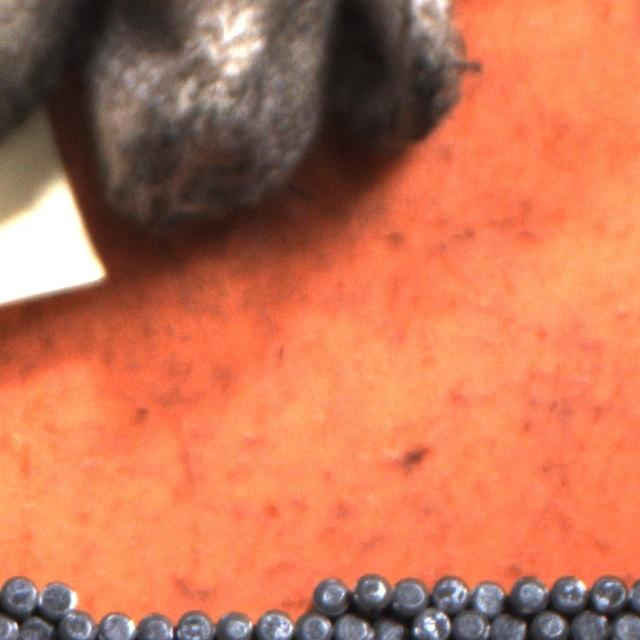tool: (0, 572, 39, 612), (430, 570, 469, 610), (549, 572, 588, 610), (509, 574, 547, 612), (589, 572, 627, 610), (388, 573, 426, 611), (312, 574, 350, 612), (351, 570, 388, 608), (38, 579, 76, 616), (255, 606, 294, 640), (412, 606, 451, 640), (470, 577, 506, 613), (452, 606, 490, 640), (58, 606, 96, 640), (216, 606, 253, 640), (530, 607, 568, 640), (570, 607, 608, 640), (176, 607, 214, 640), (98, 607, 136, 640), (296, 608, 334, 640), (136, 608, 174, 640), (489, 610, 526, 640), (334, 611, 371, 640), (16, 613, 54, 640), (370, 614, 407, 640), (609, 609, 640, 640)
